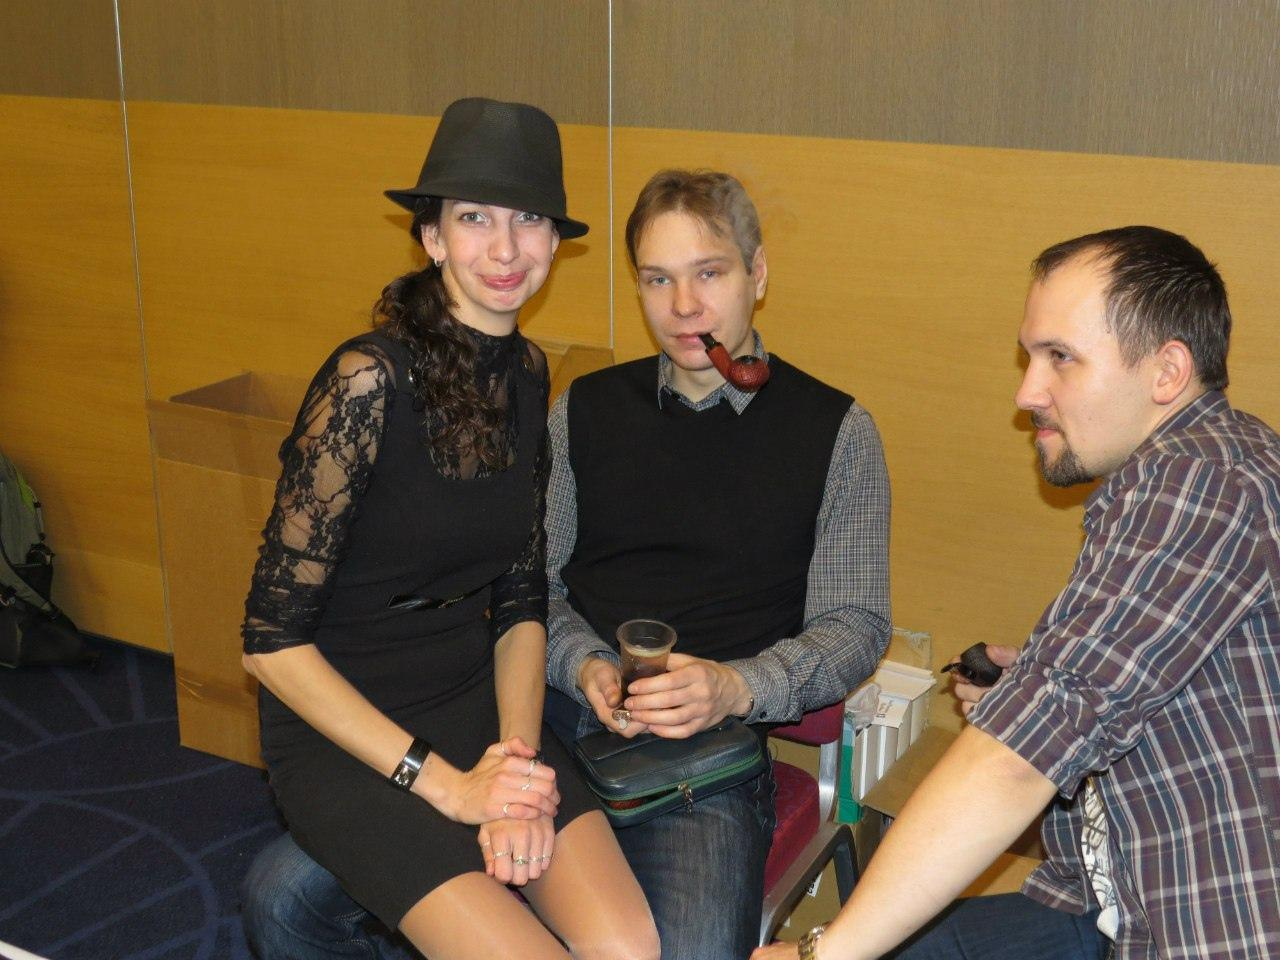trubka: (700, 334, 769, 391), (939, 641, 1003, 687)
